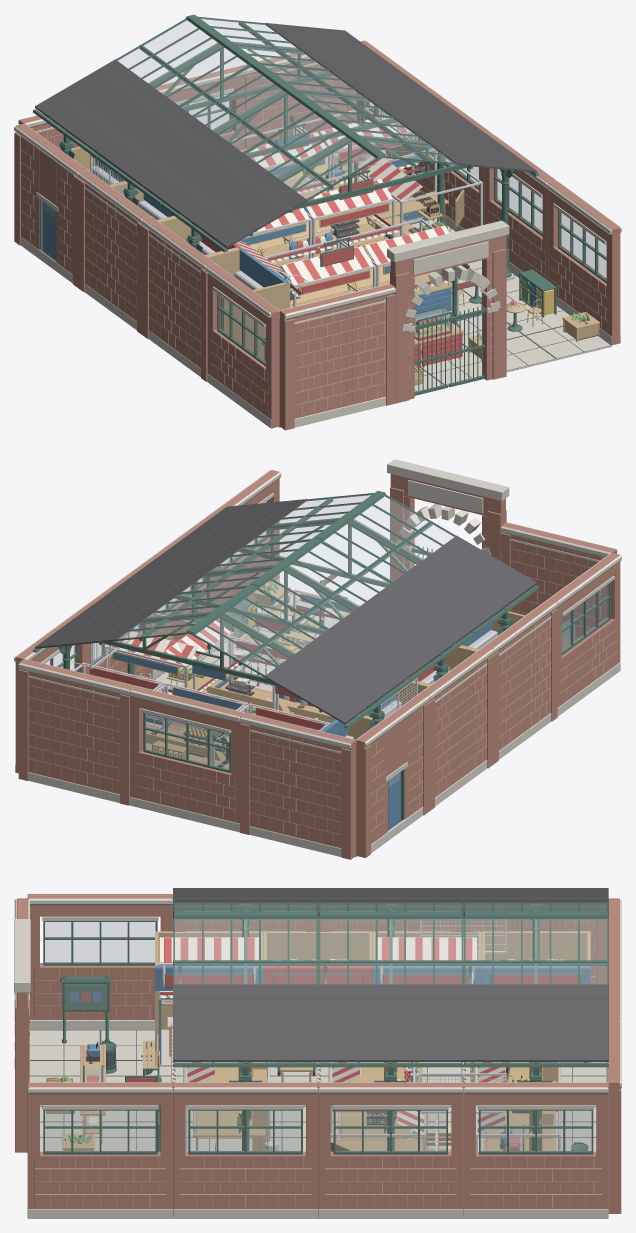
3 renders of one model, top to bottom at view 1: azimuth 30°, elevation 25°; view 2: azimuth 150°, elevation 25°; view 3: azimuth 270°, elevation 25°, orthographic. The views are drawn at different scales.
Parts seen in each view (by area): view 1: 060-brick-wall-module/0, 069-roof-truss-bay/1, 068-roof-truss-bay/1, 067-roof-truss-bay/1, 069-roof-truss-bay/2, 067-roof-truss-bay/2, 068-roof-truss-bay/2, 050-brick-wall-module/0, 049-brick-wall-module/0, 069-roof-truss-bay/0, 048-service-door-module/0, 051-clerestory-wall-module/0 (+55 smaller); view 2: 056-brick-wall-module/0, 058-brick-wall-module/0, 067-roof-truss-bay/1, 069-roof-truss-bay/1, 068-roof-truss-bay/1, 057-clerestory-wall-module/0, 069-roof-truss-bay/2, 068-roof-truss-bay/2, 067-roof-truss-bay/2, 048-service-door-module/0, 049-brick-wall-module/0, 050-brick-wall-module/0 (+35 smaller); view 3: 069-roof-truss-bay/1, 068-roof-truss-bay/1, 067-roof-truss-bay/1, 054-clerestory-wall-module/0, 055-clerestory-wall-module/0, 053-clerestory-wall-module/0, 052-clerestory-wall-module/0, 067-roof-truss-bay/2, 068-roof-truss-bay/2, 069-roof-truss-bay/2, 051-clerestory-wall-module/0, 067-roof-truss-bay/0 (+69 smaller).
Part boxes in pixels (left/top/right/bottom): 060-brick-wall-module/0: left=279, top=284, right=395, bottom=430; 069-roof-truss-bay/1: left=163, top=116, right=536, bottom=247; 068-roof-truss-bay/1: left=99, top=69, right=472, bottom=201; 067-roof-truss-bay/1: left=35, top=23, right=408, bottom=154; 069-roof-truss-bay/2: left=245, top=111, right=453, bottom=198; 067-roof-truss-bay/2: left=117, top=18, right=325, bottom=105; 068-roof-truss-bay/2: left=181, top=65, right=390, bottom=151; 050-brick-wall-module/0: left=142, top=217, right=214, bottom=381; 049-brick-wall-module/0: left=78, top=170, right=151, bottom=334; 069-roof-truss-bay/0: left=160, top=108, right=539, bottom=252; 048-service-door-module/0: left=14, top=123, right=87, bottom=287; 051-clerestory-wall-module/0: left=207, top=264, right=279, bottom=428; 056-brick-wall-module/0: left=240, top=713, right=356, bottom=859; 058-brick-wall-module/0: left=18, top=659, right=134, bottom=805; 067-roof-truss-bay/1: left=35, top=592, right=408, bottom=724; 069-roof-truss-bay/1: left=163, top=499, right=536, bottom=630; 068-roof-truss-bay/1: left=99, top=546, right=472, bottom=677; 057-clerestory-wall-module/0: left=130, top=686, right=244, bottom=823; 069-roof-truss-bay/2: left=246, top=494, right=454, bottom=581; 068-roof-truss-bay/2: left=182, top=541, right=390, bottom=628; 067-roof-truss-bay/2: left=118, top=588, right=326, bottom=674; 048-service-door-module/0: left=356, top=693, right=429, bottom=857; 049-brick-wall-module/0: left=420, top=646, right=493, bottom=810; 050-brick-wall-module/0: left=484, top=599, right=557, bottom=763; 069-roof-truss-bay/1: left=173, top=888, right=318, bottom=1061; 068-roof-truss-bay/1: left=318, top=888, right=463, bottom=1061; 067-roof-truss-bay/1: left=463, top=888, right=608, bottom=1061; 054-clerestory-wall-module/0: left=173, top=1082, right=318, bottom=1217; 055-clerestory-wall-module/0: left=27, top=1082, right=172, bottom=1217; 053-clerestory-wall-module/0: left=318, top=1082, right=463, bottom=1217; 052-clerestory-wall-module/0: left=463, top=1082, right=608, bottom=1208; 067-roof-truss-bay/2: left=466, top=902, right=606, bottom=983; 068-roof-truss-bay/2: left=320, top=902, right=461, bottom=983; 069-roof-truss-bay/2: left=175, top=902, right=315, bottom=983; 051-clerestory-wall-module/0: left=27, top=894, right=172, bottom=1019; 067-roof-truss-bay/0: left=463, top=898, right=608, bottom=1078.
Size of the model in its own units: 12.73 by 6.39 by 16.74.
